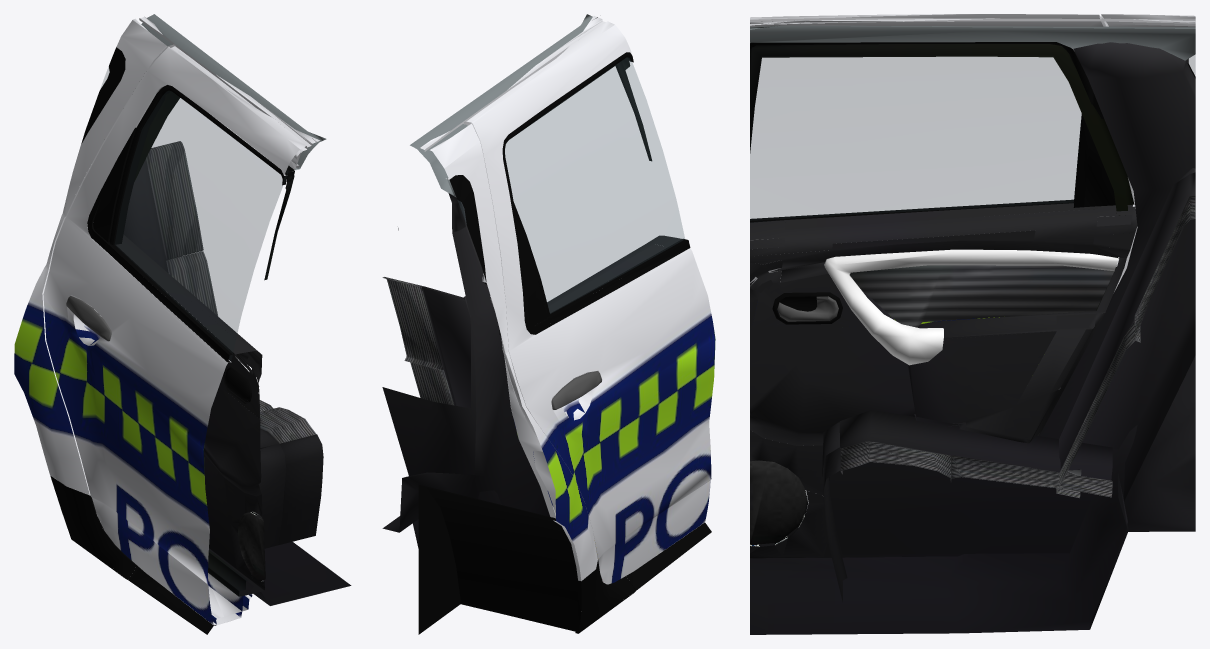
Rendered from patrulla_doorRR.glb.
3 renders of one model, left to right at view 1: azimuth 30°, elevation 25°; view 2: azimuth 150°, elevation 25°; view 3: azimuth 270°, elevation 25°, orthographic. The views are drawn at different scales.
Visible parts, largest first — view 1: patrulla_doorRR; view 2: patrulla_doorRR; view 3: patrulla_doorRR.
Part boxes in pixels (x1,y1,x2,y2): patrulla_doorRR: [14, 14, 351, 634]; patrulla_doorRR: [382, 14, 715, 634]; patrulla_doorRR: [750, 14, 1195, 634].
Bounding box in the file's own units: 0.4468 × 1.2 × 0.807.
7 materials, 3 textured.
